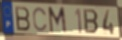1: (75, 8, 83, 35)
4: (102, 8, 117, 36)
B: (83, 8, 100, 35), (14, 6, 31, 33)
C: (32, 6, 49, 33)
M: (47, 6, 68, 35)
